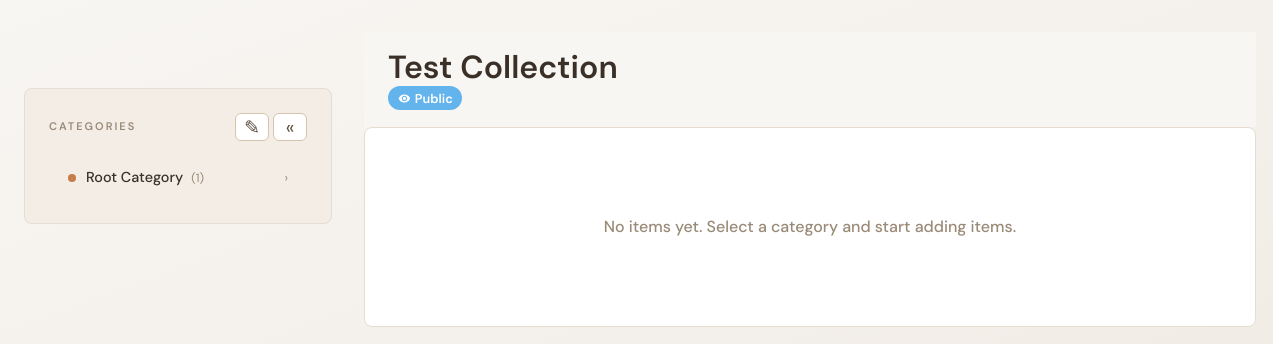
Test: CategoryView › sidebar collapse › should hide CategoryNav when sidebar is collapsed
What coordinates should you click on to do the following:
click the button named "Collapse categories"
I would click on:
 (290, 127)
Its box is x1=273 y1=113 x2=307 y2=141.
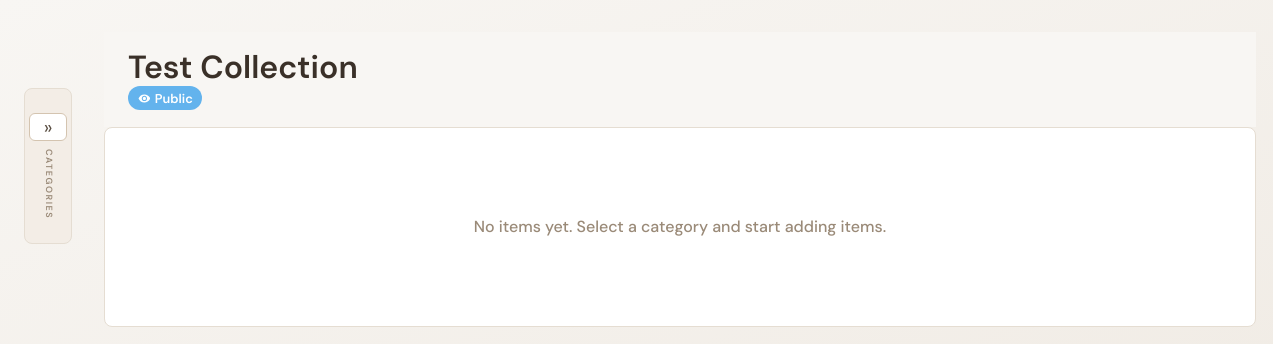
Expected: the button "Root Category" is gone
Expected: the button named "Expand sidebar" is shown, x1=29 y1=113 x2=67 y2=141
